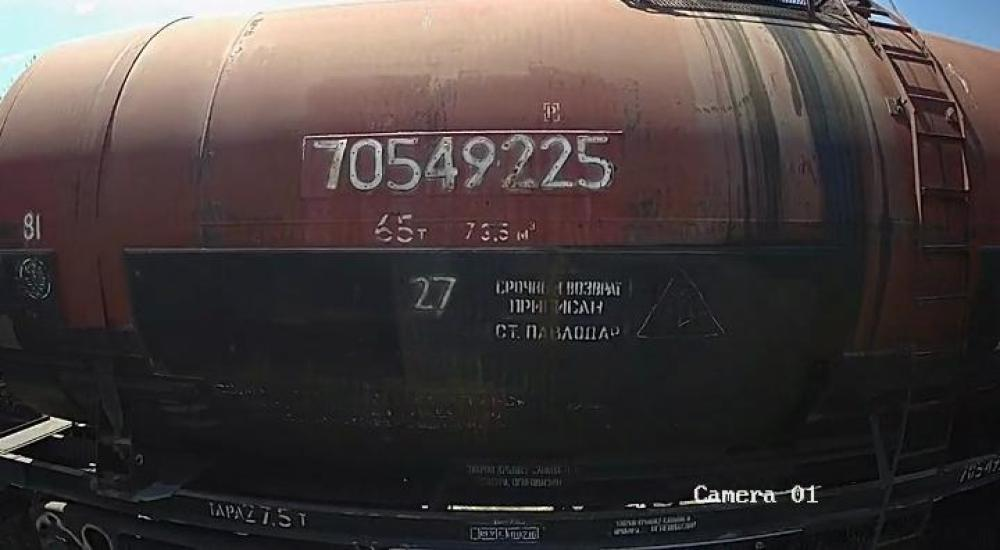Wagon-number: (311, 132, 616, 195)
